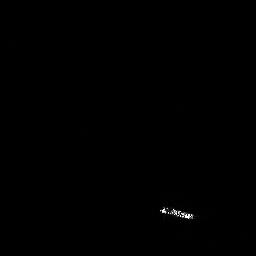ship: (158, 205, 195, 223)
